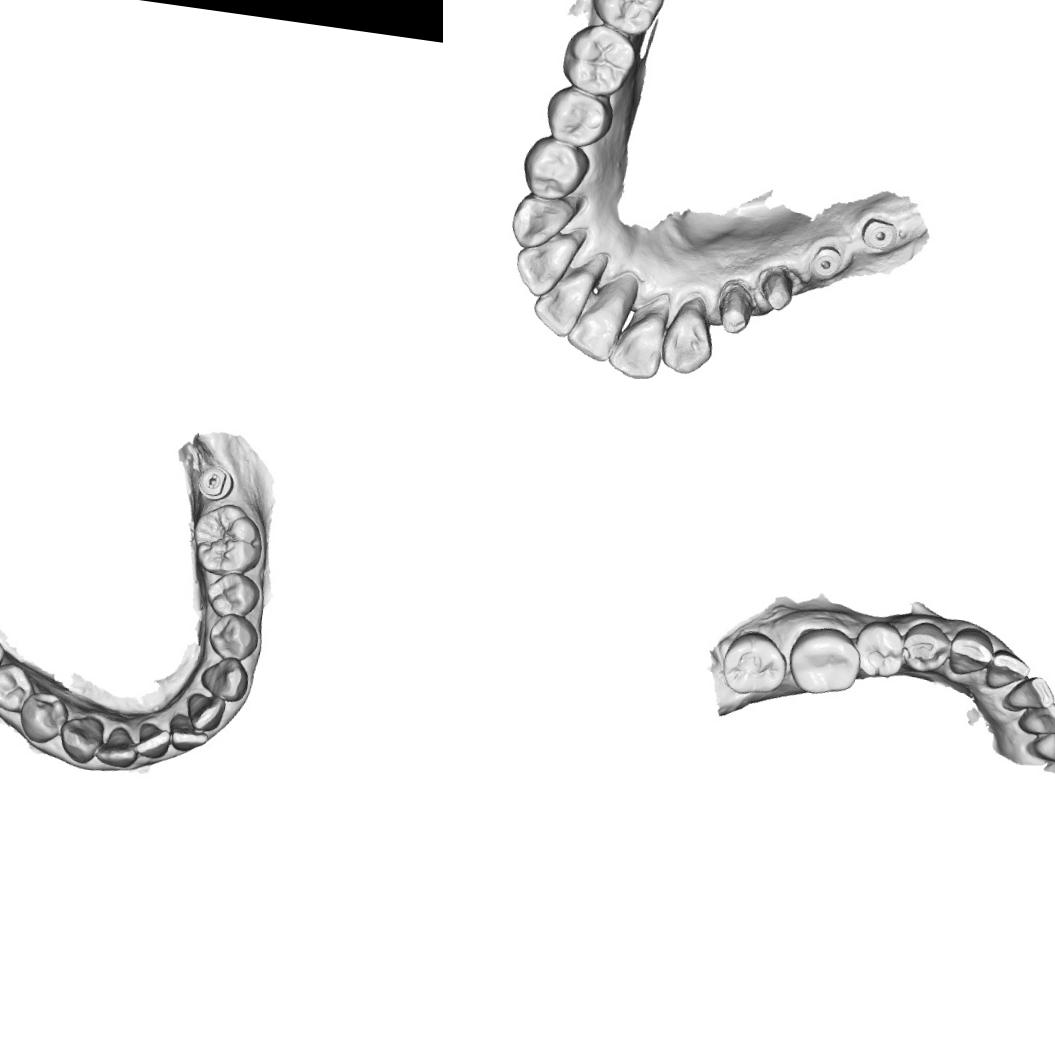canine: (657, 298, 720, 378), (506, 192, 571, 252), (945, 623, 997, 680), (197, 652, 252, 705), (54, 711, 106, 766)
crown: (715, 282, 758, 340), (756, 262, 800, 316)
implant: (803, 240, 842, 284), (859, 213, 899, 254)
implant_minus: (194, 463, 236, 502)
incisor: (565, 290, 629, 366), (530, 268, 596, 341), (606, 308, 669, 379), (512, 233, 574, 302), (983, 645, 1033, 696), (94, 722, 144, 770), (1004, 671, 1055, 715), (164, 710, 213, 755), (182, 689, 227, 734), (1017, 696, 1055, 740), (132, 720, 172, 761), (1030, 723, 1055, 767)
molar: (187, 498, 270, 580), (558, 18, 638, 100), (784, 622, 866, 700), (717, 626, 793, 701), (589, 0, 667, 37)
premolar: (538, 82, 615, 152), (518, 132, 590, 204), (850, 616, 908, 682), (202, 568, 264, 623), (897, 618, 954, 677), (15, 688, 72, 746), (204, 610, 262, 662), (0, 658, 39, 715)
